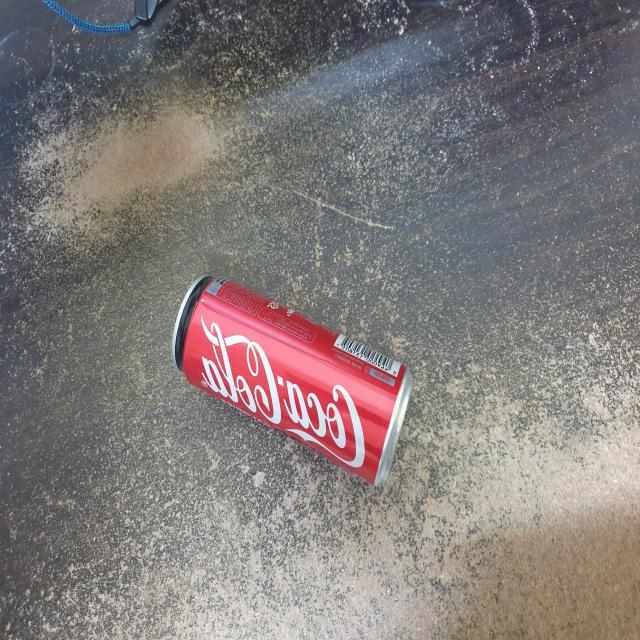can: (156, 262, 436, 503)
